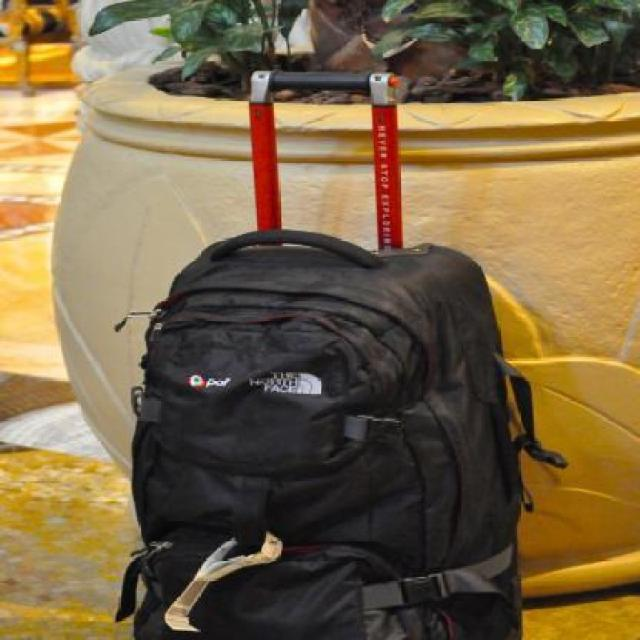backpack: (112, 223, 572, 640)
